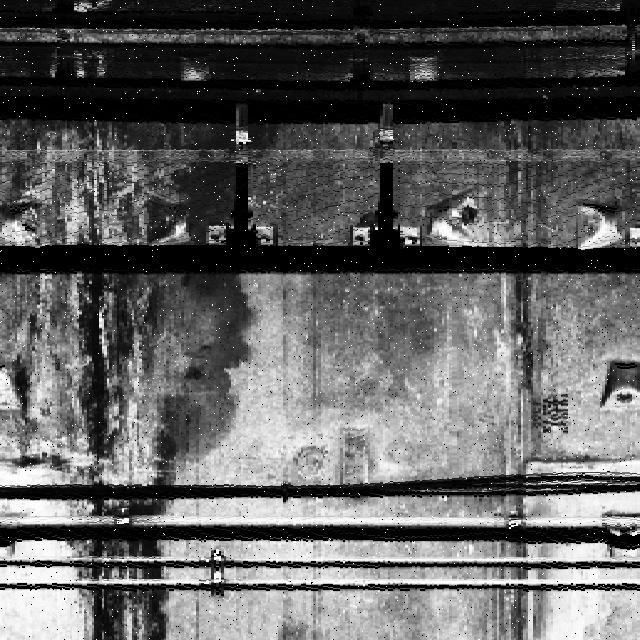leakage: (0, 123, 259, 640), (493, 119, 556, 638)
